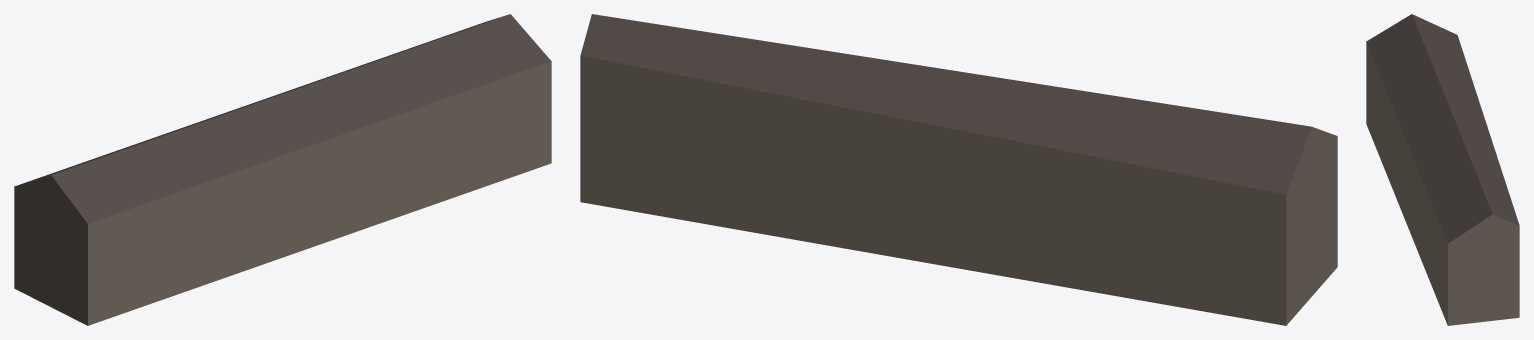
3 renders of one model, left to right at view 1: azimuth 30°, elevation 25°; view 2: azimuth 150°, elevation 25°; view 3: azimuth 270°, elevation 25°, orthographic. The views are drawn at different scales.
Parts seen in each view (by area): view 1: HP-w1076065858; view 2: HP-w1076065858; view 3: HP-w1076065858.
Boxes of the visible parts, x1=… form: HP-w1076065858: x1=14, y1=14, x2=551, y2=325; HP-w1076065858: x1=580, y1=14, x2=1337, y2=325; HP-w1076065858: x1=1366, y1=14, x2=1519, y2=325.
Size of the model in its own units: 49 by 11.65 by 15.22.
